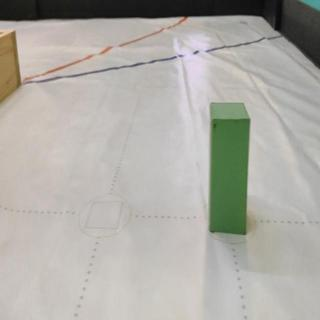greenbox: (207, 100, 253, 233)
